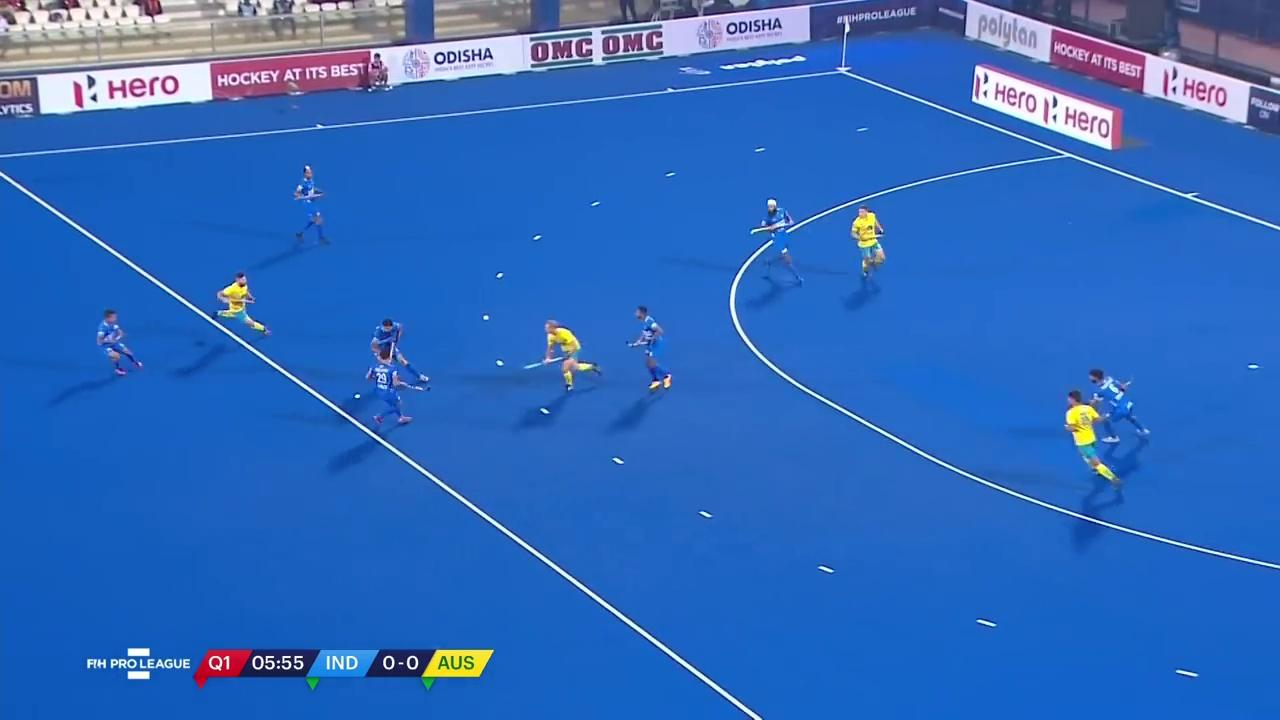ball: (352, 389, 363, 401)
